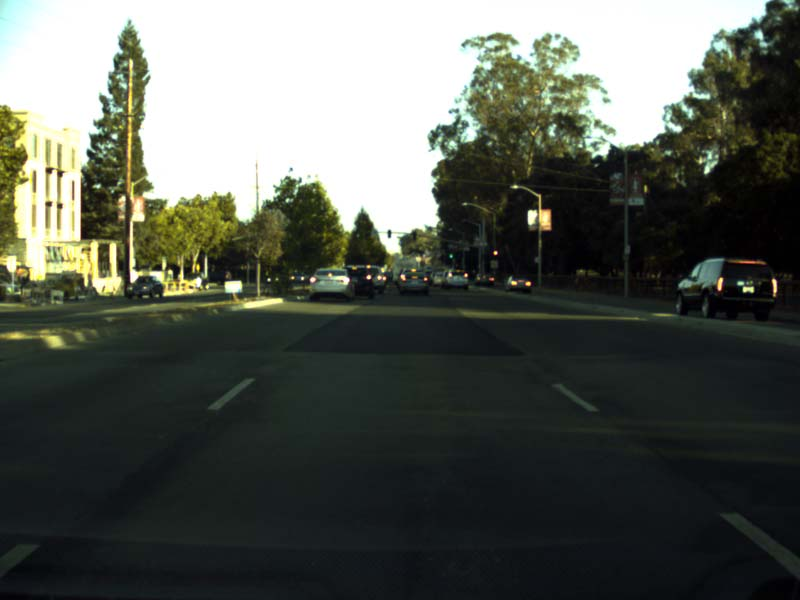Green: (448, 248, 453, 258), (356, 229, 359, 238)
Red: (493, 249, 497, 260)
